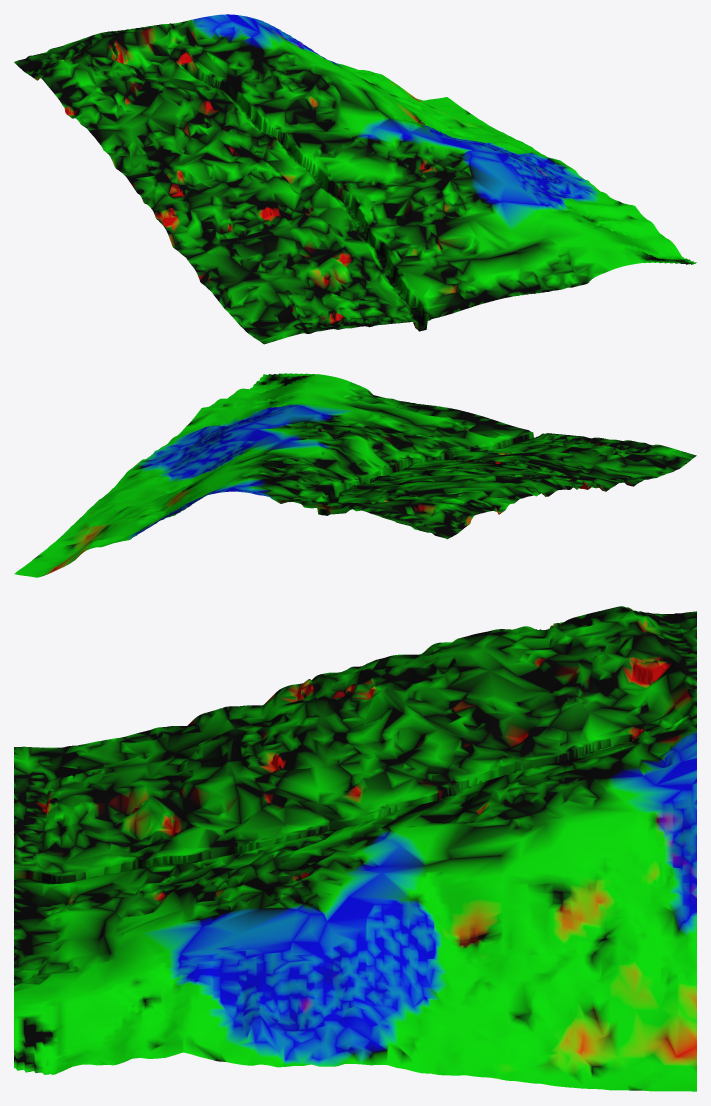
3 renders of one model, top to bottom at view 1: azimuth 30°, elevation 25°; view 2: azimuth 150°, elevation 25°; view 3: azimuth 270°, elevation 25°, orthographic. The views are drawn at different scales.
Parts seen in each view (by area): view 1: N_2_3; view 2: N_2_3; view 3: N_2_3.
Part boxes in pixels (x1=…): N_2_3: x1=14, y1=14, x2=696, y2=344; N_2_3: x1=14, y1=373, x2=696, y2=577; N_2_3: x1=14, y1=606, x2=696, y2=1091.
Bounding box in the file's own units: 256 × 85.06 × 256.
